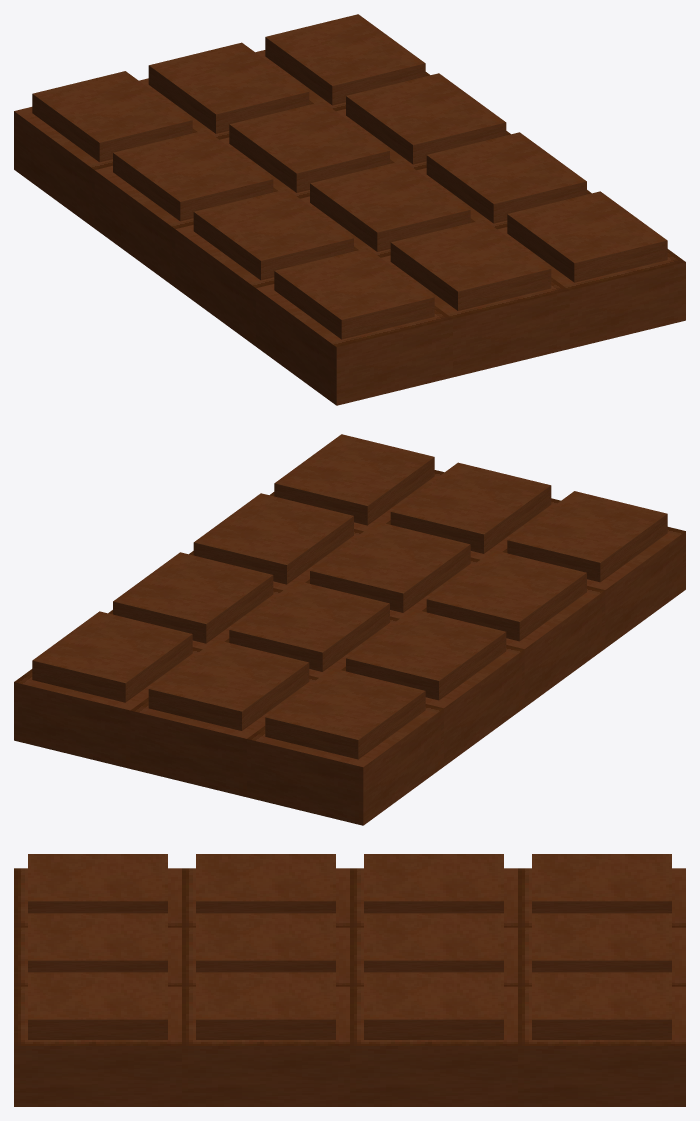
Rendered from chocolate.glb.
The picture shows the model from 3 angles, top to bottom: view 1: azimuth 30°, elevation 25°; view 2: azimuth 150°, elevation 25°; view 3: azimuth 270°, elevation 25°; orthographic projection. The views are drawn at different scales.
Visible parts, largest first — view 1: dd8388c6-917f-c743-05aa-18d0478c061d_4, da474078-0582-5d49-7f6c-d6b4a0e29c26_13, 1607a8a4-3594-8e59-3daa-ea02003646e0_22, 19144e61-cdc1-c267-7c06-537ade136a37_5, 425eb611-cc61-7a89-436c-dcc3ed740f34_8, b3c6625c-e05a-6ede-0e7c-d90f5b707ac9_20, 8b31ac37-f824-8fef-90b0-91c12c80d709_7, b1f32e7e-1c21-5b01-79e6-b909c7a22e41_0, ae2c1c0c-6b4f-e50a-bd92-fe7de5db654f_3, 53567c0e-0be3-619e-03a7-f535928f1ff5_19, bc5d8998-64d9-516d-fbd4-97857ad40715_16, 5752f251-ff54-b131-e88b-8dda8b96797e_11 (+6 smaller); view 2: 331494b0-3313-6435-eff0-b0a763e886dd_1, 425eb611-cc61-7a89-436c-dcc3ed740f34_8, bc5d8998-64d9-516d-fbd4-97857ad40715_16, b1f32e7e-1c21-5b01-79e6-b909c7a22e41_0, da474078-0582-5d49-7f6c-d6b4a0e29c26_13, 53567c0e-0be3-619e-03a7-f535928f1ff5_19, ae2c1c0c-6b4f-e50a-bd92-fe7de5db654f_3, 19144e61-cdc1-c267-7c06-537ade136a37_5, 8b31ac37-f824-8fef-90b0-91c12c80d709_7, b3c6625c-e05a-6ede-0e7c-d90f5b707ac9_20, 1607a8a4-3594-8e59-3daa-ea02003646e0_22, 5752f251-ff54-b131-e88b-8dda8b96797e_11 (+6 smaller); view 3: eff35342-34f8-2500-858b-8bcb65c43df0_17, 0a14a132-8b46-9718-f02a-0347d853cd3f_18, 0f964adb-1ef3-7c57-eddd-214956c04a02_21, 0aec79ee-7cf8-1c75-64aa-68c1e504f9c7_23, bc5d8998-64d9-516d-fbd4-97857ad40715_16, 53567c0e-0be3-619e-03a7-f535928f1ff5_19, b3c6625c-e05a-6ede-0e7c-d90f5b707ac9_20, 1607a8a4-3594-8e59-3daa-ea02003646e0_22, b1f32e7e-1c21-5b01-79e6-b909c7a22e41_0, ae2c1c0c-6b4f-e50a-bd92-fe7de5db654f_3, 19144e61-cdc1-c267-7c06-537ade136a37_5, 8b31ac37-f824-8fef-90b0-91c12c80d709_7 (+12 smaller).
Boxes of the visible parts, x1,y1,x2,y2 form: dd8388c6-917f-c743-05aa-18d0478c061d_4: (256,284,452,405); da474078-0582-5d49-7f6c-d6b4a0e29c26_13: (390,220,551,310); 1607a8a4-3594-8e59-3daa-ea02003646e0_22: (507,191,667,282); 19144e61-cdc1-c267-7c06-537ade136a37_5: (274,248,434,339); 425eb611-cc61-7a89-436c-dcc3ed740f34_8: (148,42,309,133); b3c6625c-e05a-6ede-0e7c-d90f5b707ac9_20: (426,132,586,223); 8b31ac37-f824-8fef-90b0-91c12c80d709_7: (193,189,353,280); b1f32e7e-1c21-5b01-79e6-b909c7a22e41_0: (32,71,192,162); ae2c1c0c-6b4f-e50a-bd92-fe7de5db654f_3: (113,130,273,221); 53567c0e-0be3-619e-03a7-f535928f1ff5_19: (346,73,506,164); bc5d8998-64d9-516d-fbd4-97857ad40715_16: (265,14,425,105); 5752f251-ff54-b131-e88b-8dda8b96797e_11: (229,101,389,192); 331494b0-3313-6435-eff0-b0a763e886dd_1: (247,704,443,825); 425eb611-cc61-7a89-436c-dcc3ed740f34_8: (148,640,309,730); bc5d8998-64d9-516d-fbd4-97857ad40715_16: (32,611,192,702); b1f32e7e-1c21-5b01-79e6-b909c7a22e41_0: (265,668,425,759); da474078-0582-5d49-7f6c-d6b4a0e29c26_13: (390,462,551,553); 53567c0e-0be3-619e-03a7-f535928f1ff5_19: (113,552,273,643); ae2c1c0c-6b4f-e50a-bd92-fe7de5db654f_3: (346,609,506,700); 19144e61-cdc1-c267-7c06-537ade136a37_5: (507,491,667,582); 8b31ac37-f824-8fef-90b0-91c12c80d709_7: (426,550,586,641); b3c6625c-e05a-6ede-0e7c-d90f5b707ac9_20: (193,493,353,584); 1607a8a4-3594-8e59-3daa-ea02003646e0_22: (274,434,434,525); 5752f251-ff54-b131-e88b-8dda8b96797e_11: (229,580,389,671); eff35342-34f8-2500-858b-8bcb65c43df0_17: (518,986,685,1106); 0a14a132-8b46-9718-f02a-0347d853cd3f_18: (350,986,517,1106); 0f964adb-1ef3-7c57-eddd-214956c04a02_21: (182,986,349,1106); 0aec79ee-7cf8-1c75-64aa-68c1e504f9c7_23: (14,986,181,1106); bc5d8998-64d9-516d-fbd4-97857ad40715_16: (532,972,671,1039); 53567c0e-0be3-619e-03a7-f535928f1ff5_19: (364,972,503,1039); b3c6625c-e05a-6ede-0e7c-d90f5b707ac9_20: (196,972,335,1039); 1607a8a4-3594-8e59-3daa-ea02003646e0_22: (28,972,167,1039); b1f32e7e-1c21-5b01-79e6-b909c7a22e41_0: (532,854,671,913); ae2c1c0c-6b4f-e50a-bd92-fe7de5db654f_3: (364,854,503,913); 19144e61-cdc1-c267-7c06-537ade136a37_5: (28,854,167,913); 8b31ac37-f824-8fef-90b0-91c12c80d709_7: (196,854,335,913).
Size of the model in its own units: 0.4688 by 0.1 by 0.75.
Materials: 1 (1 with a texture image).
